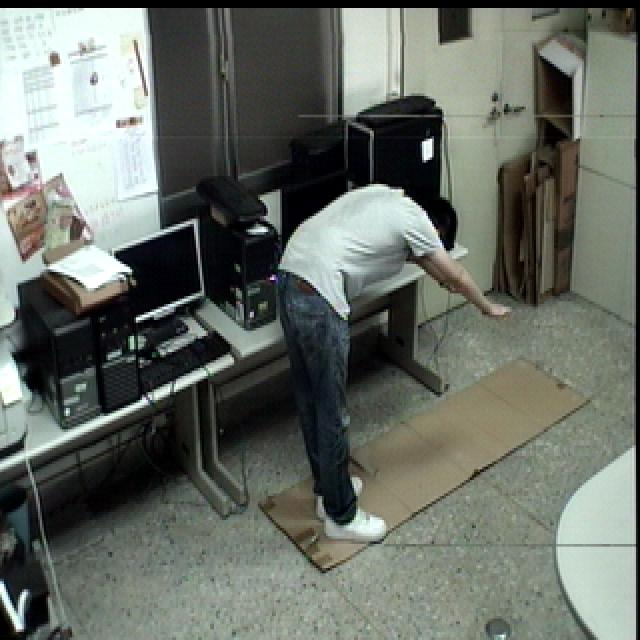bend: (266, 176, 526, 554)
